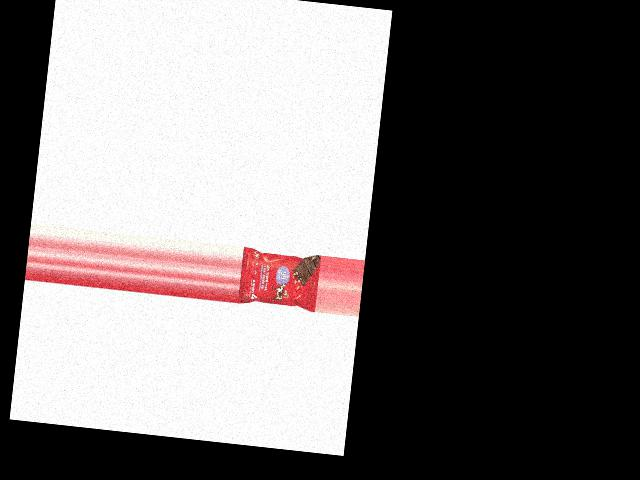chocolate: (237, 246, 321, 309)
